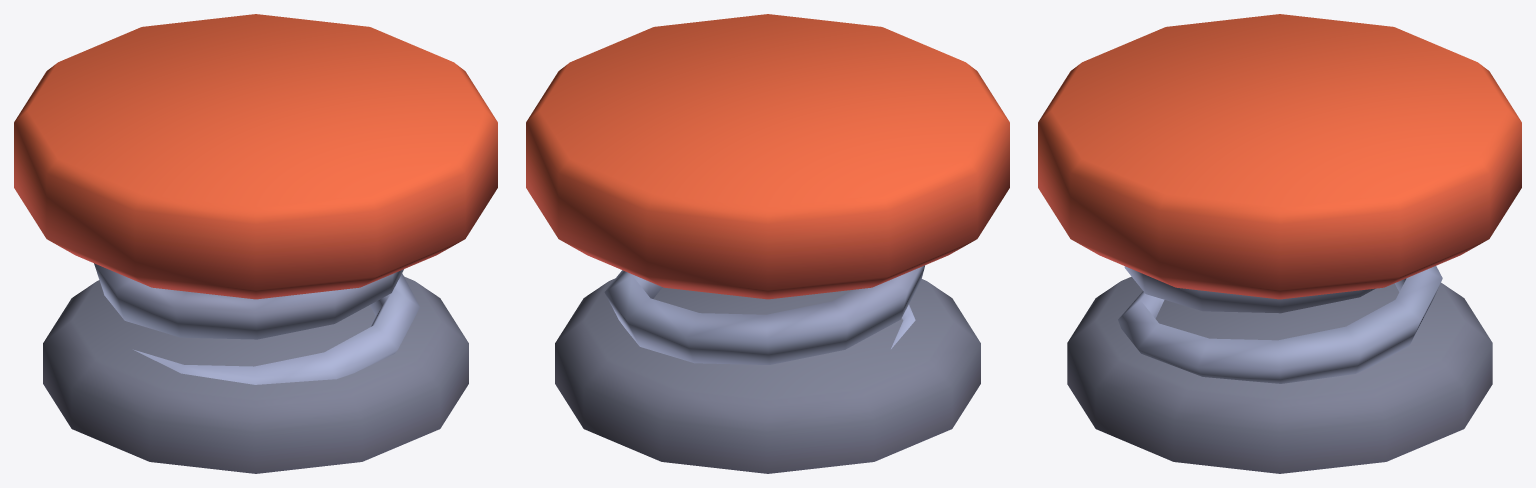
The model's file is fjader.glb.
3 views of the same model, side by side, from view 1: azimuth 30°, elevation 25°; view 2: azimuth 150°, elevation 25°; view 3: azimuth 270°, elevation 25° (orthographic).
Visible parts, largest first — view 1: platform, spring (×2); view 2: platform, spring (×2); view 3: platform, spring (×2).
Boxes of the visible parts, x1,y1,x2,y2 form: platform: (14,14,497,299); spring (×2): (43,263,468,473); platform: (526,14,1009,299); spring (×2): (555,265,980,473); platform: (1038,14,1521,299); spring (×2): (1067,266,1492,473).
Bounding box in the file's own units: 0.75 × 0.4679 × 0.75.
1 material, 1 textured.
